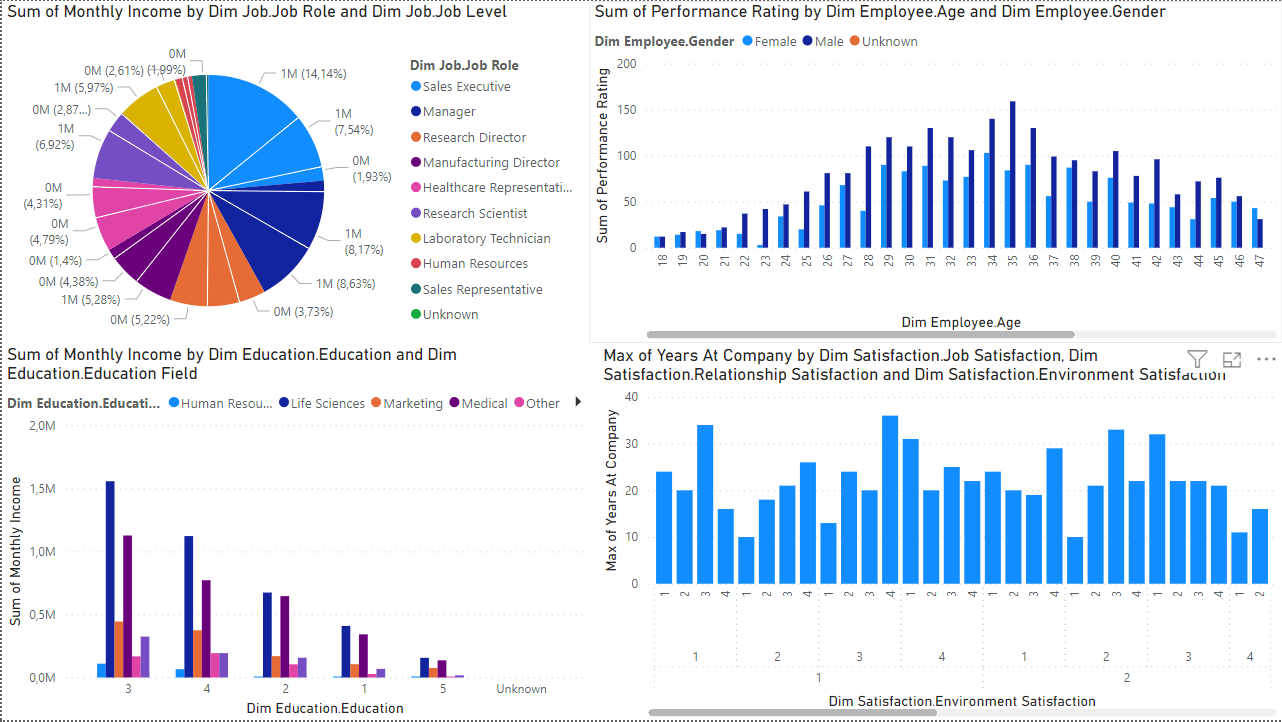

Layout of this report page (visuals, bound fields, positions):
{"tool":"powerbi","page":{"name":"5","canvas":[1280,720],"ordinal":0},"visuals":[{"type":"pieChart","fields":{"Category":["Personal Management DC.Dim Job.Job Role"],"Y":["Sum(Personal Management DC.Monthly Income)"],"Series":["Personal Management DC.Dim Job.Job Level"]},"box":[0,0,586.7,360],"z":0},{"type":"clusteredColumnChart","fields":{"Y":["Sum(Personal Management DC.Monthly Income)"],"Category":["Personal Management DC.Dim Education.Education"],"Series":["Personal Management DC.Dim Education.Education Field"]},"box":[0,342,587.4,377.7],"z":1000},{"type":"columnChart","fields":{"Category":["Personal Management DC.Dim Satisfaction.Job Satisfaction","Personal Management DC.Dim Satisfaction.Relationship Satisfaction","Personal Management DC.Dim Satisfaction.Environment Satisfaction"],"Y":["Max(Personal Management DC.Years At Company)"]},"box":[596.7,343.3,683.3,376.7],"z":2000},{"type":"clusteredColumnChart","fields":{"Category":["Personal Management DC.Dim Employee.Age"],"Y":["Sum(Personal Management DC.Performance Rating)"],"Series":["Personal Management DC.Dim Employee.Gender"]},"box":[587.8,0,692.2,342.2],"z":3000}]}

Visuals, with their boxes in screenshot pixels (x1, y1, x2, y2), scaled from the page's 1280x720 canvas onto the 1282x722 screenshot:
pieChart - Personal Management DC.Dim Job.Job Role x Sum(Personal Management DC.Monthly Income): (left=0, top=0, right=588, bottom=361)
clusteredColumnChart - Sum(Personal Management DC.Monthly Income) x Personal Management DC.Dim Education.Education: (left=0, top=343, right=588, bottom=721)
columnChart - Personal Management DC.Dim Satisfaction.Job Satisfaction x Personal Management DC.Dim Satisfaction.Relationship Satisfaction: (left=598, top=344, right=1281, bottom=721)
clusteredColumnChart - Personal Management DC.Dim Employee.Age x Sum(Personal Management DC.Performance Rating): (left=589, top=0, right=1281, bottom=343)
